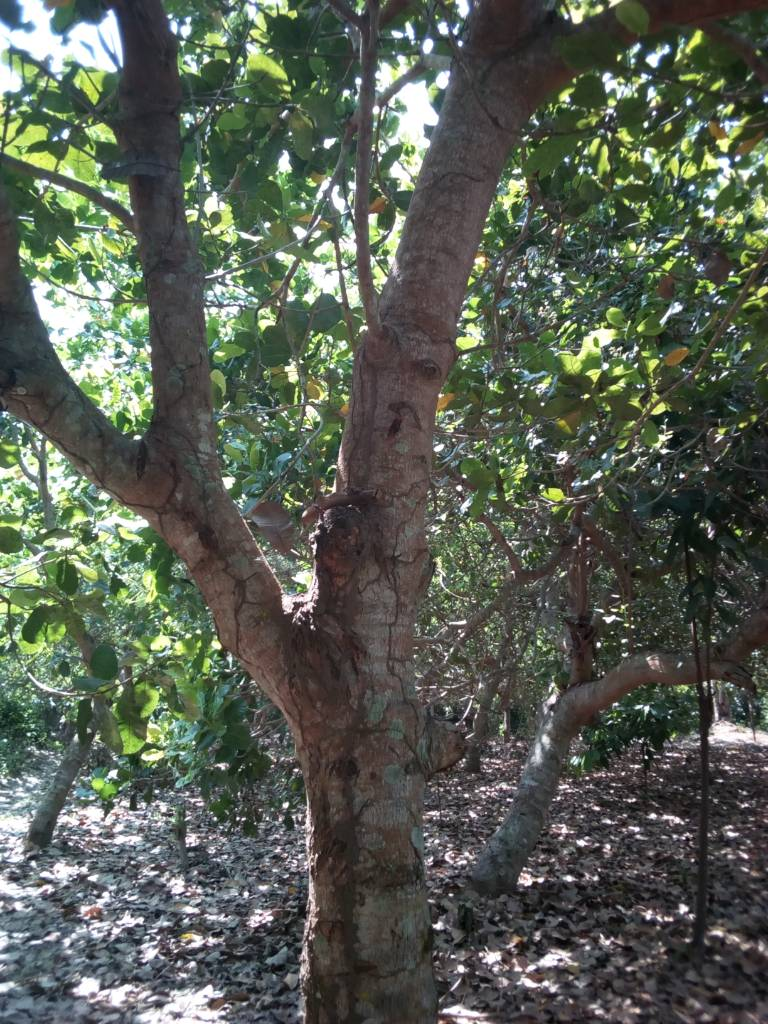Termites: (315, 732, 421, 1024)
